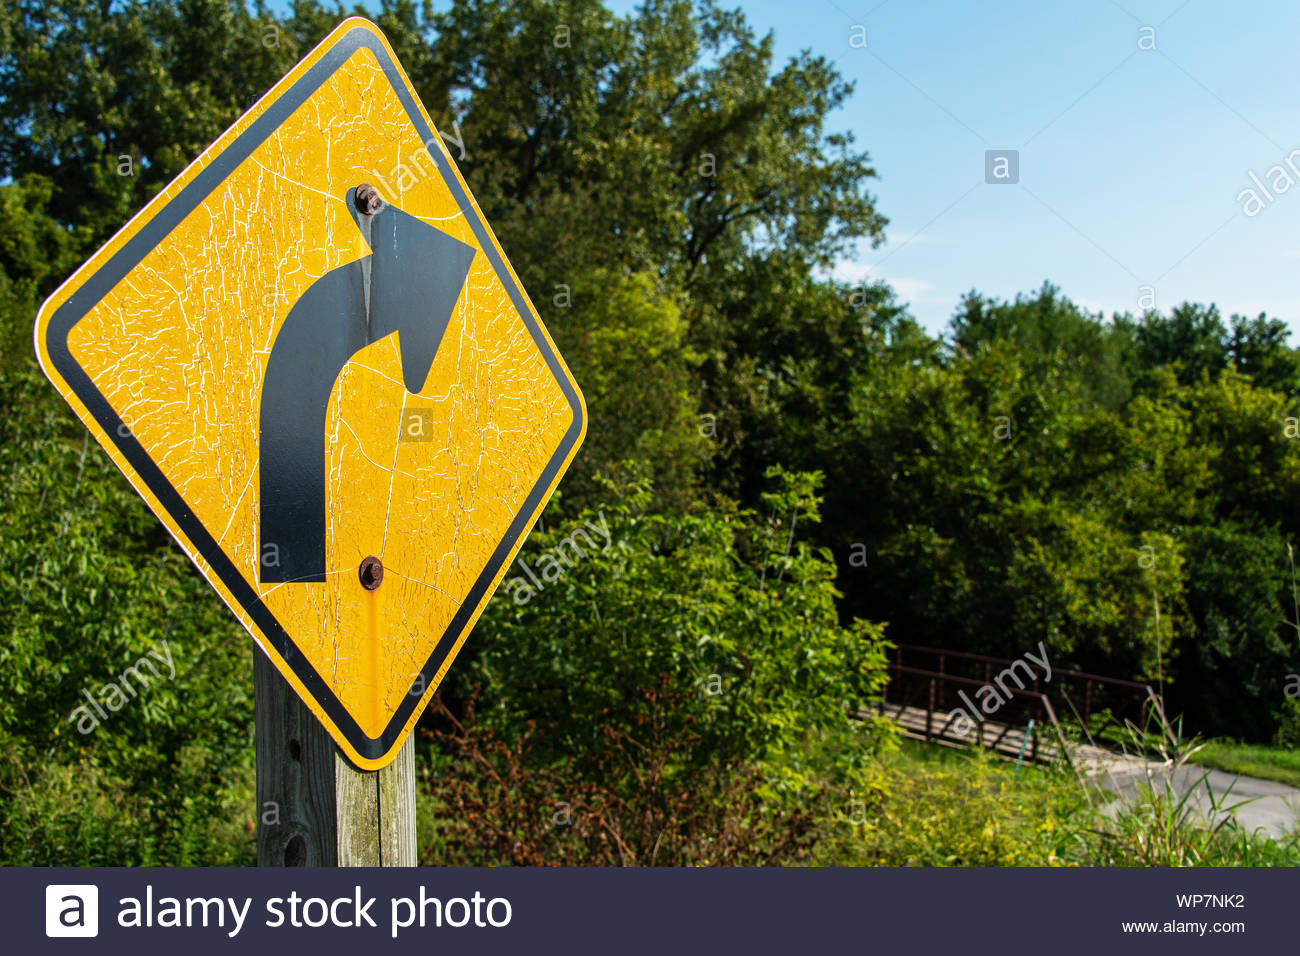right: (33, 11, 595, 783)
